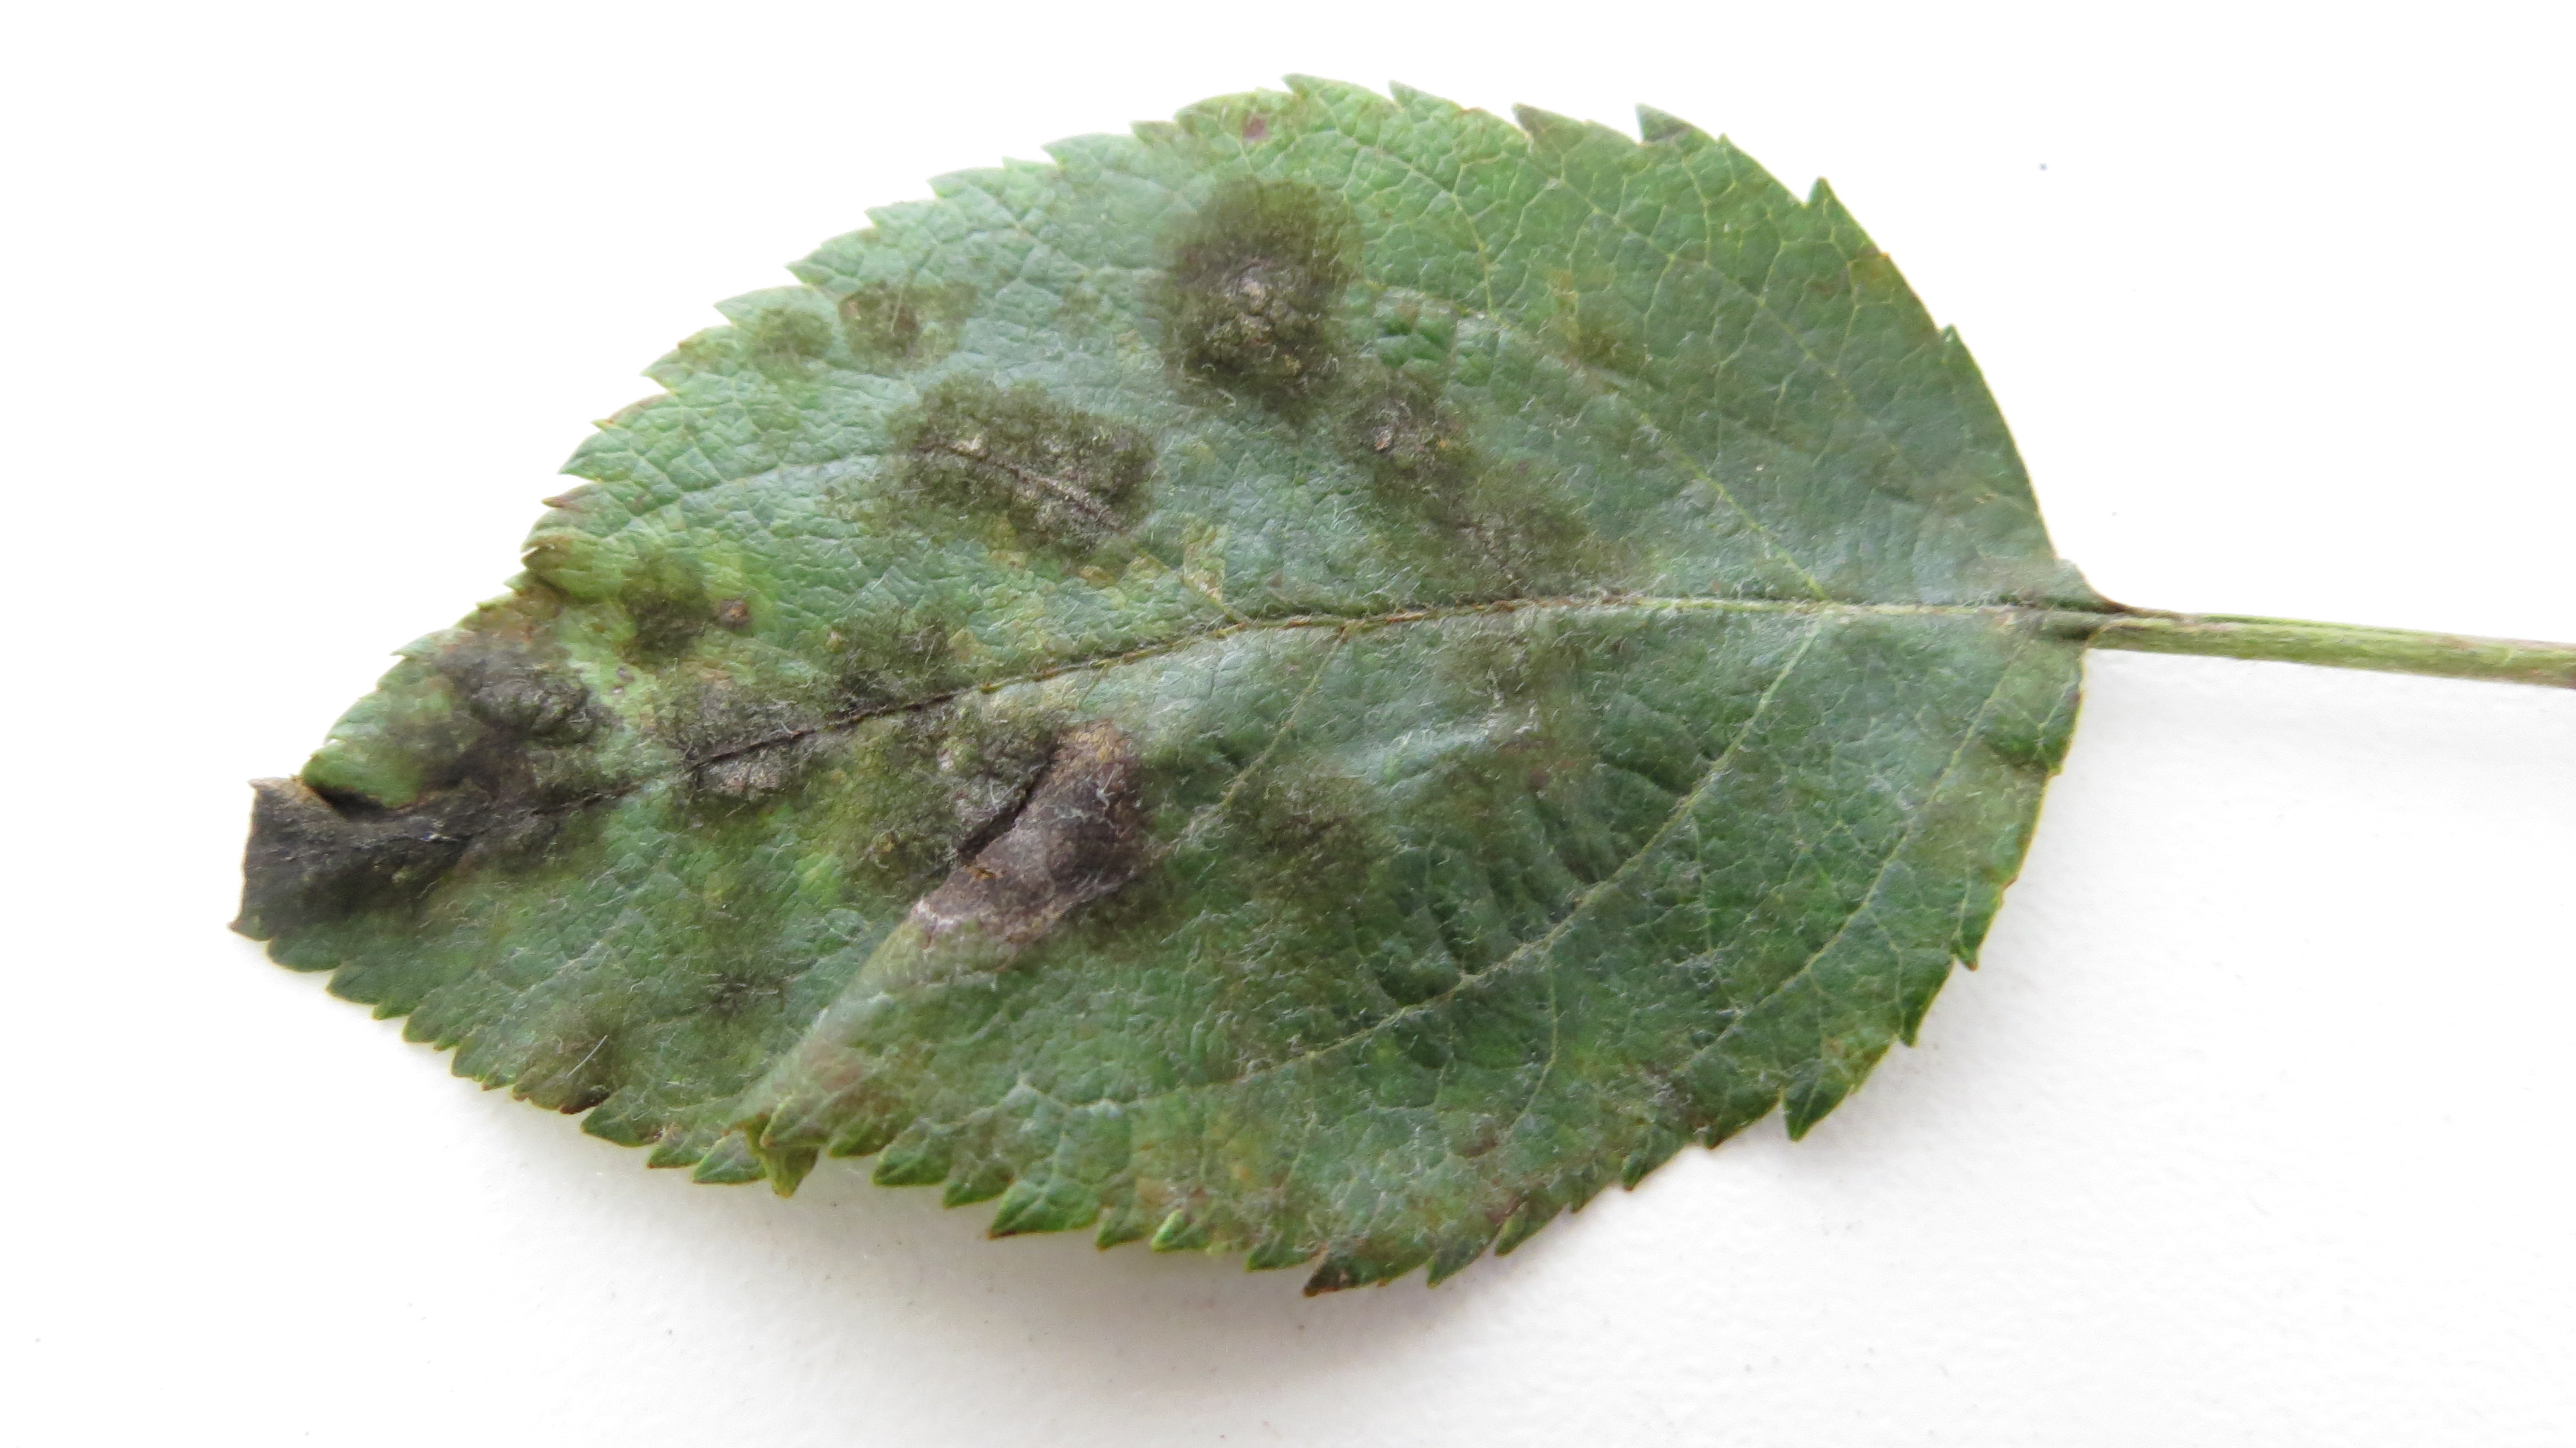sarna: (867, 710, 1175, 956), (1332, 361, 1608, 598), (1141, 156, 1376, 420), (883, 372, 1171, 584), (432, 574, 628, 867), (1426, 614, 1624, 851), (228, 751, 467, 936), (653, 662, 833, 850), (1226, 738, 1405, 920), (805, 600, 993, 756), (784, 1044, 987, 1179), (607, 531, 750, 683), (826, 255, 987, 381), (501, 984, 642, 1122), (692, 896, 814, 1050)
